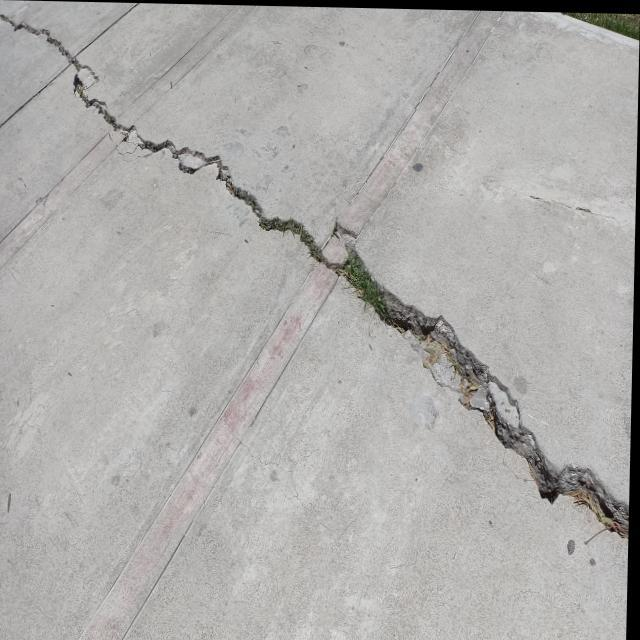hole: (338, 228, 636, 552)
